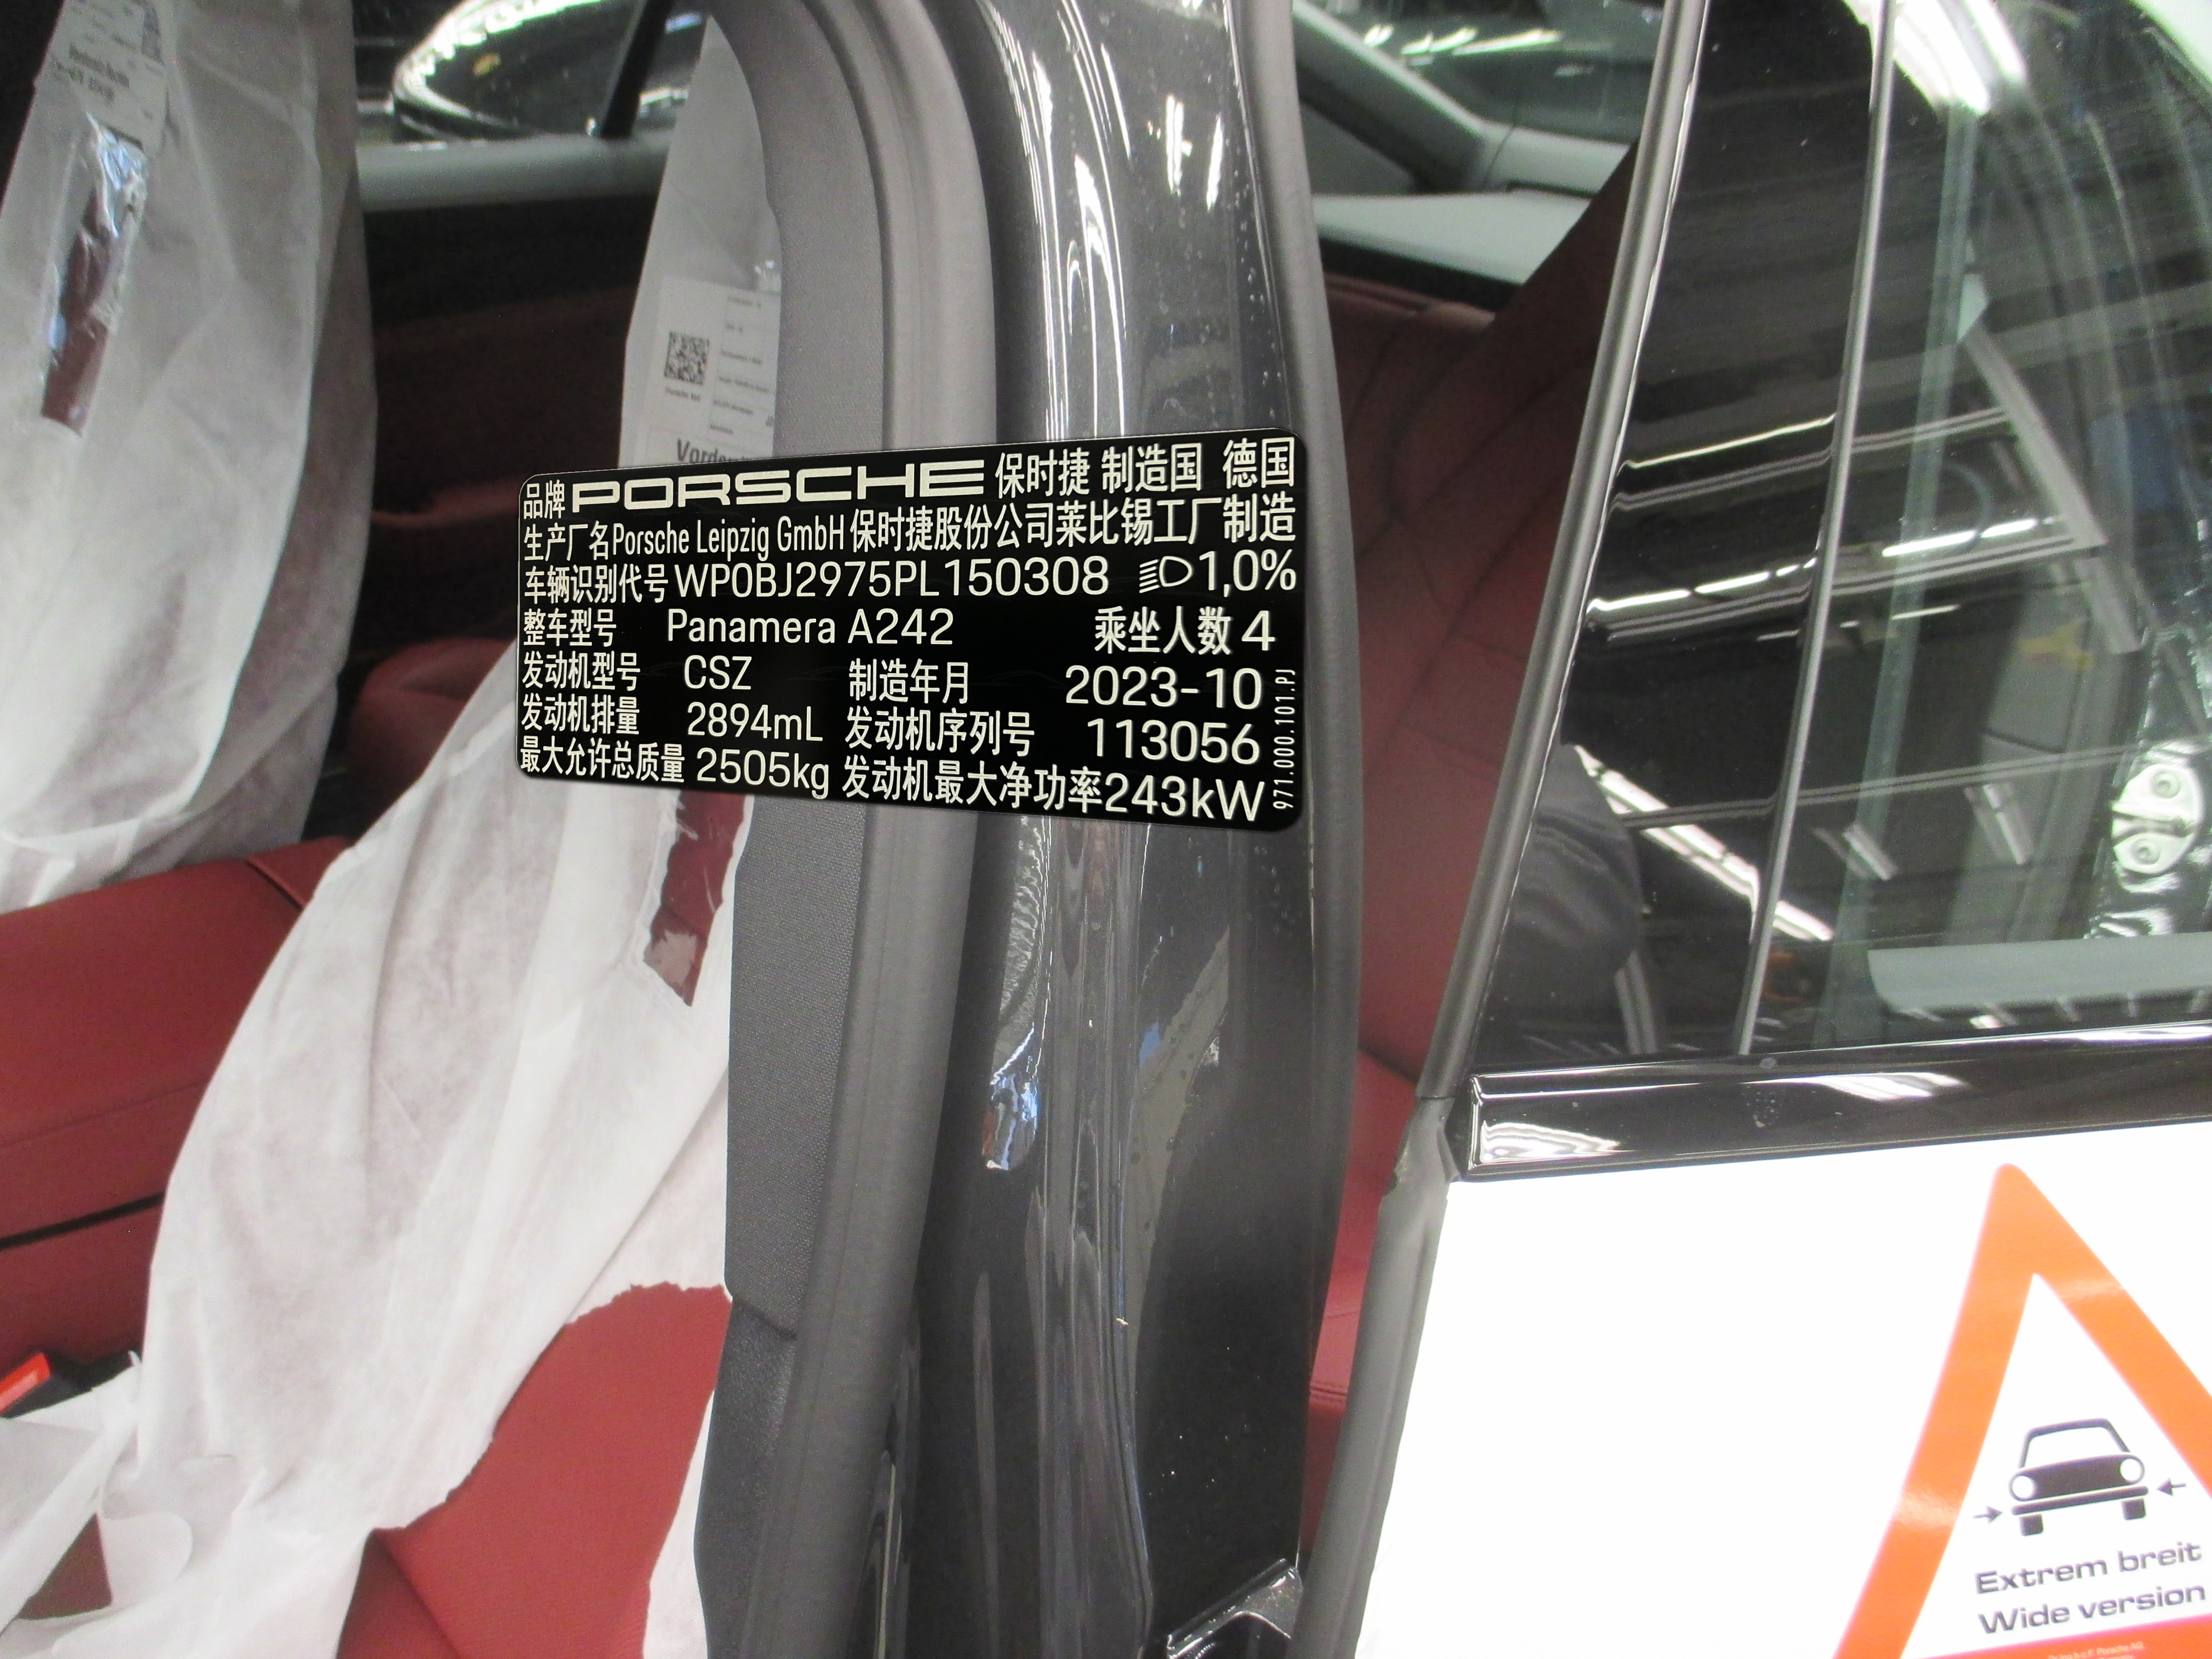Typlabel-China: (516, 427, 1306, 831)
